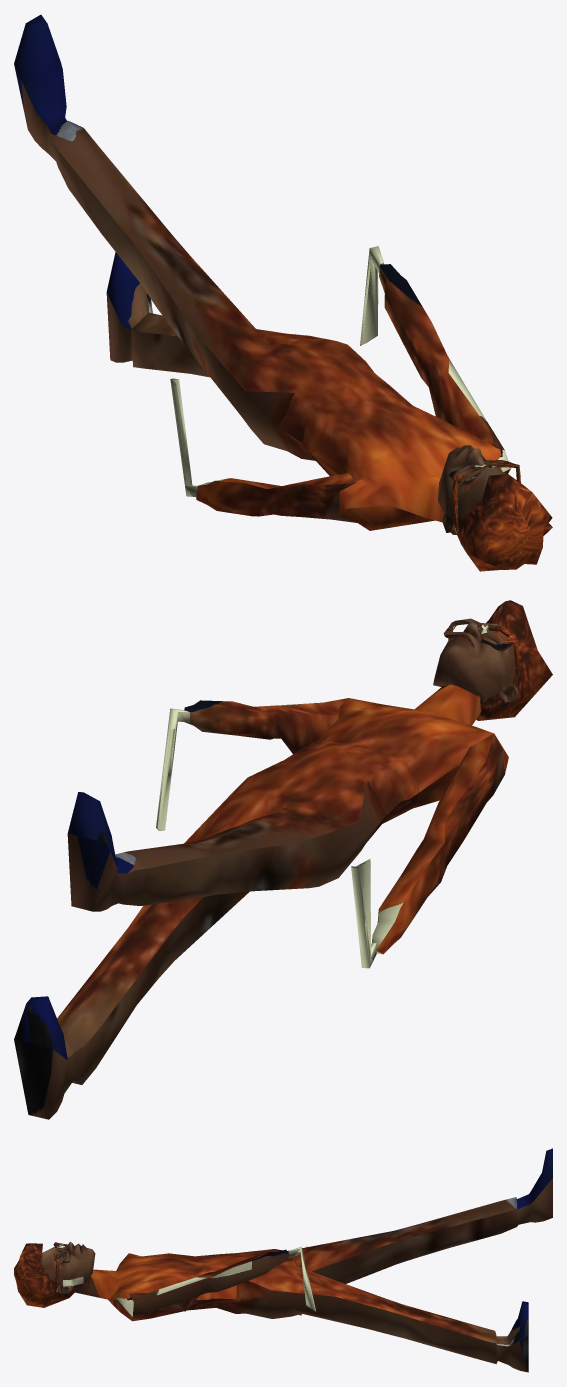
The model's file is npc_pak_guru_walk2.obj.
3 renders of one model, top to bottom at view 1: azimuth 30°, elevation 25°; view 2: azimuth 150°, elevation 25°; view 3: azimuth 270°, elevation 25°, orthographic. The views are drawn at different scales.
Visible parts, largest first — view 1: npc_pak_guru_walk2; view 2: npc_pak_guru_walk2; view 3: npc_pak_guru_walk2.
Part boxes in pixels (<box>): npc_pak_guru_walk2: <box>14,14,552,571</box>; npc_pak_guru_walk2: <box>14,600,552,1119</box>; npc_pak_guru_walk2: <box>14,1148,552,1372</box>.
Size of the model in its own units: 0.4654 by 0.7455 by 1.79.
1 material, 1 textured.
